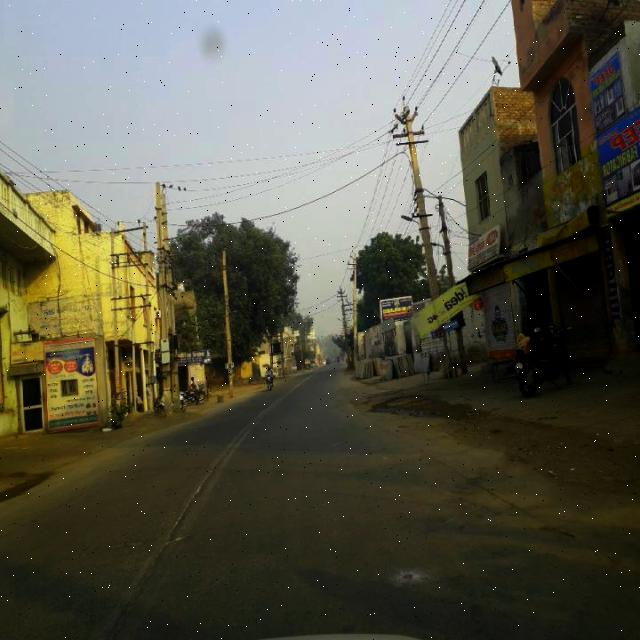D01: (170, 439, 243, 542), (98, 544, 170, 639)
D44: (168, 441, 242, 544), (102, 546, 174, 637)
